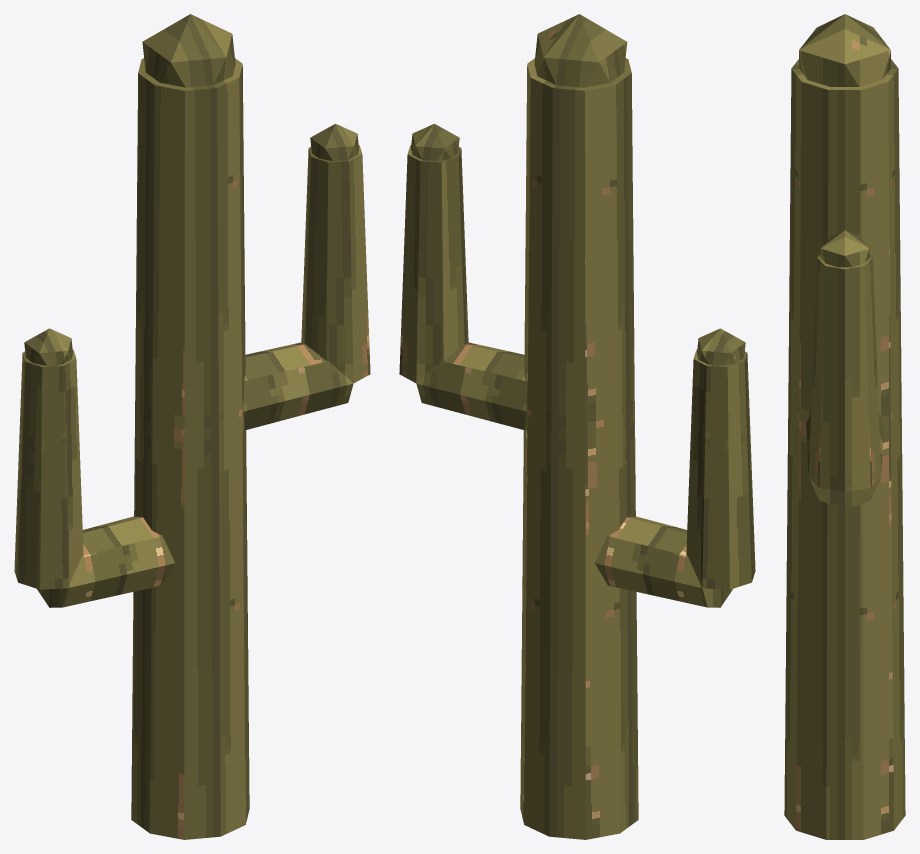
Rendered from arvore.fbx.
3 views of the same model, side by side, from view 1: azimuth 30°, elevation 25°; view 2: azimuth 150°, elevation 25°; view 3: azimuth 270°, elevation 25° (orthographic).
Visible parts, largest first — view 1: deserto_arvore; view 2: deserto_arvore; view 3: deserto_arvore.
Part boxes in pixels (x1,y1,x2,y2): deserto_arvore: (14,14,370,839); deserto_arvore: (399,14,755,839); deserto_arvore: (784,14,905,839).
Size of the model in its own units: 86.6 by 190 by 26.
Materials: 1 (1 with a texture image).
